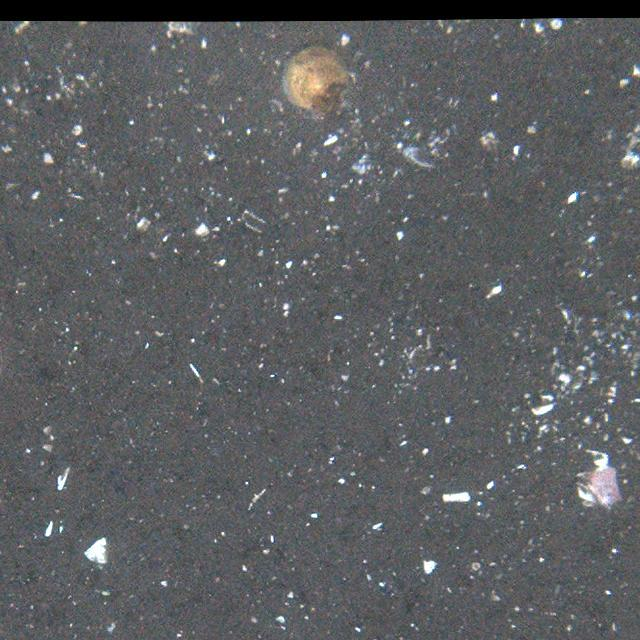scallop: (281, 42, 356, 114)
